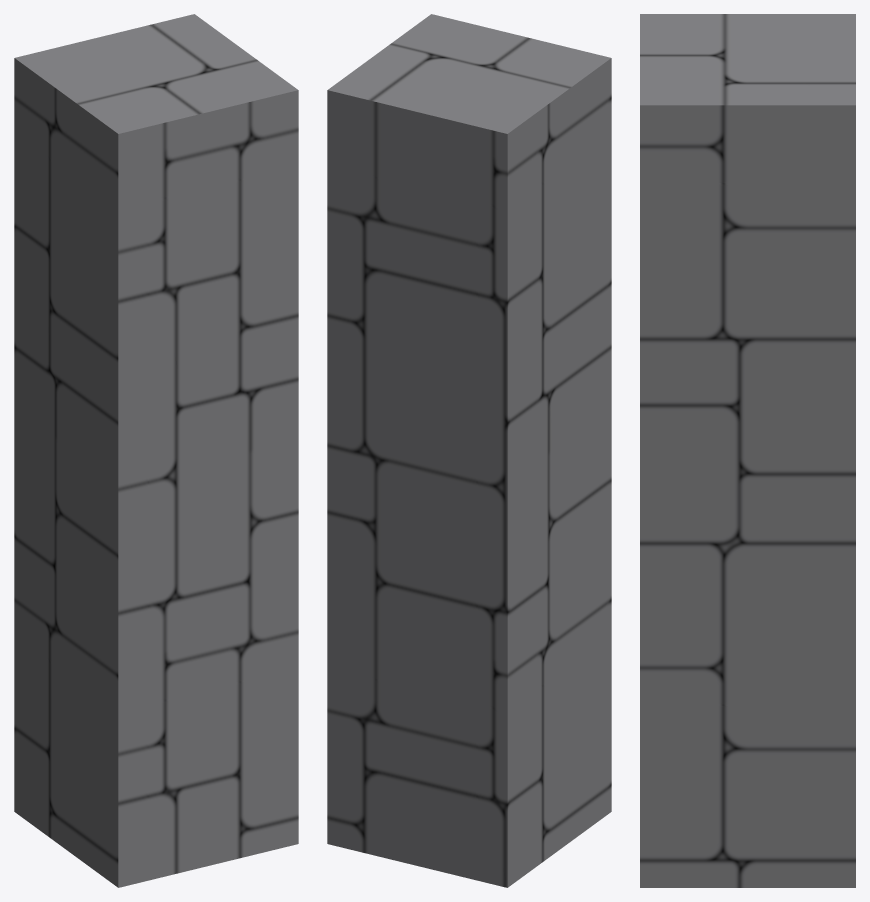
The model's file is CobbleStonePole.fbx.
3 renders of one model, left to right at view 1: azimuth 30°, elevation 25°; view 2: azimuth 150°, elevation 25°; view 3: azimuth 270°, elevation 25°, orthographic. The views are drawn at different scales.
Visible parts, largest first — view 1: Cube.001; view 2: Cube.001; view 3: Cube.001.
Part boxes in pixels (left/top/right/bottom): Cube.001: left=14, top=14, right=298, bottom=887; Cube.001: left=327, top=14, right=611, bottom=887; Cube.001: left=640, top=14, right=855, bottom=887.
Size of the model in its own units: 200 by 800 by 200.
